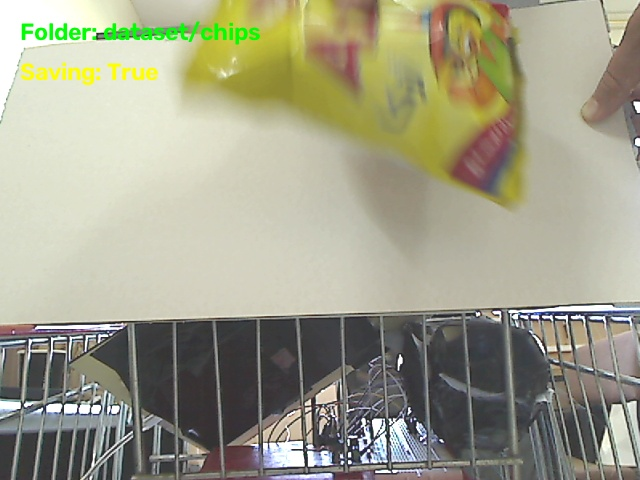chips: (186, 0, 523, 204)
